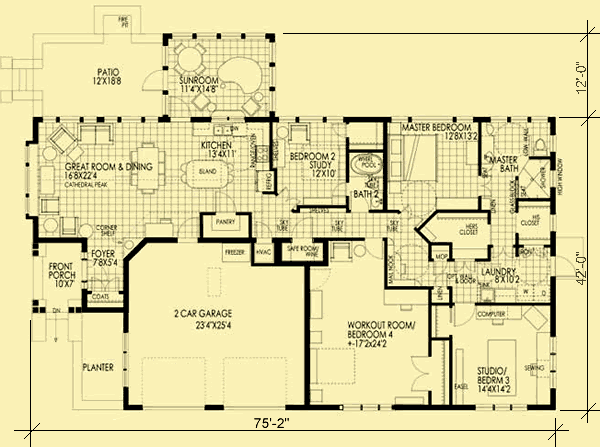bathroom has a small and large sink with bathtub: (347, 150, 384, 214)
bedroom has a couch: (274, 114, 348, 209)
hall has a dining table: (121, 116, 176, 237)
kitchen has a twin sink with cooking range and counter: (179, 119, 276, 215)
livingroom has a round dining table: (161, 34, 279, 117)
livingroom has large sofas and small sofas with tables: (26, 117, 123, 241)
master bathroom has a shower space, large sink and small sink: (479, 117, 558, 200)
this bedroom has a double bed with bedside stands: (387, 118, 480, 213)
